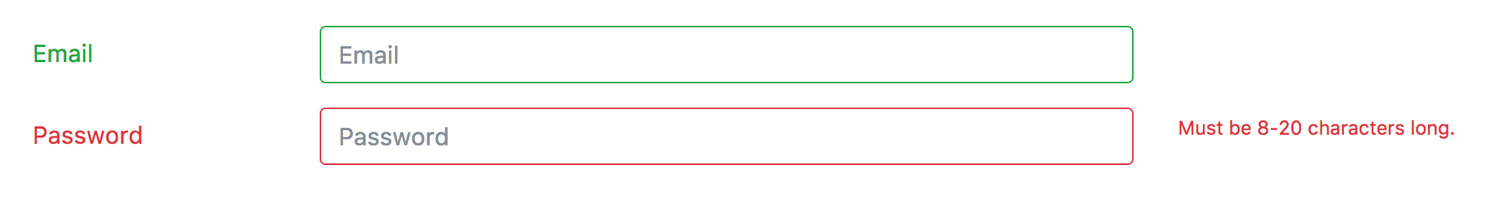error_field: (319, 107, 1136, 168)
error_message: (1179, 115, 1455, 139), (32, 124, 143, 148)
